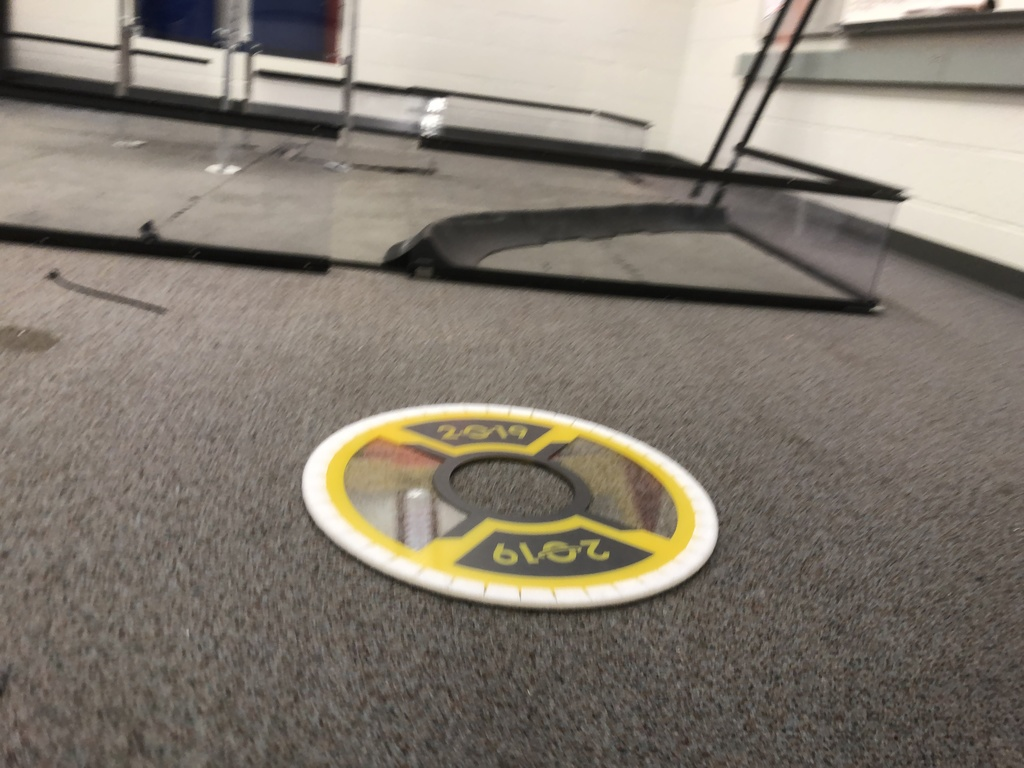hatch_panel: (267, 383, 760, 624)
